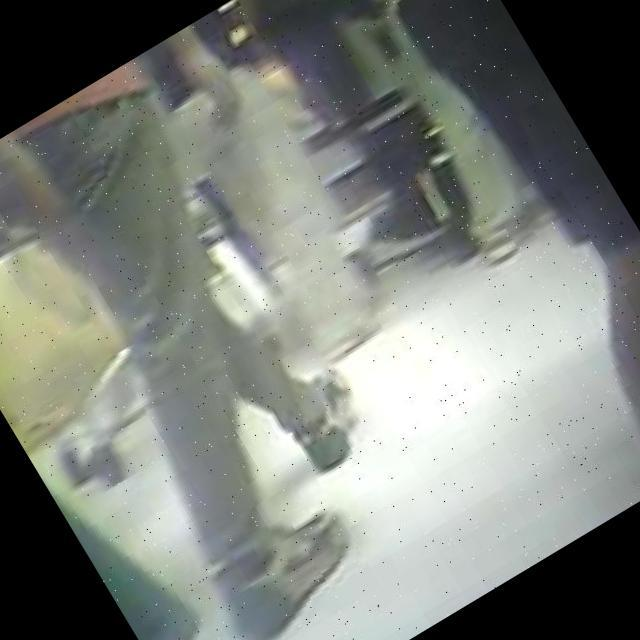person: (0, 15, 497, 640), (341, 0, 640, 502)
